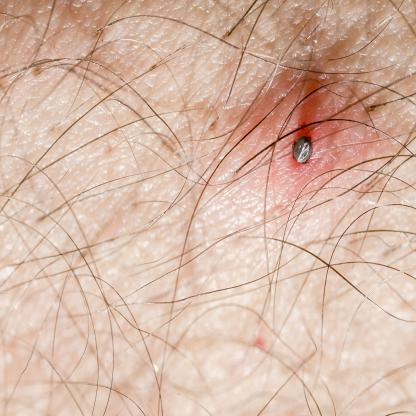Tick: (278, 90, 341, 192)
